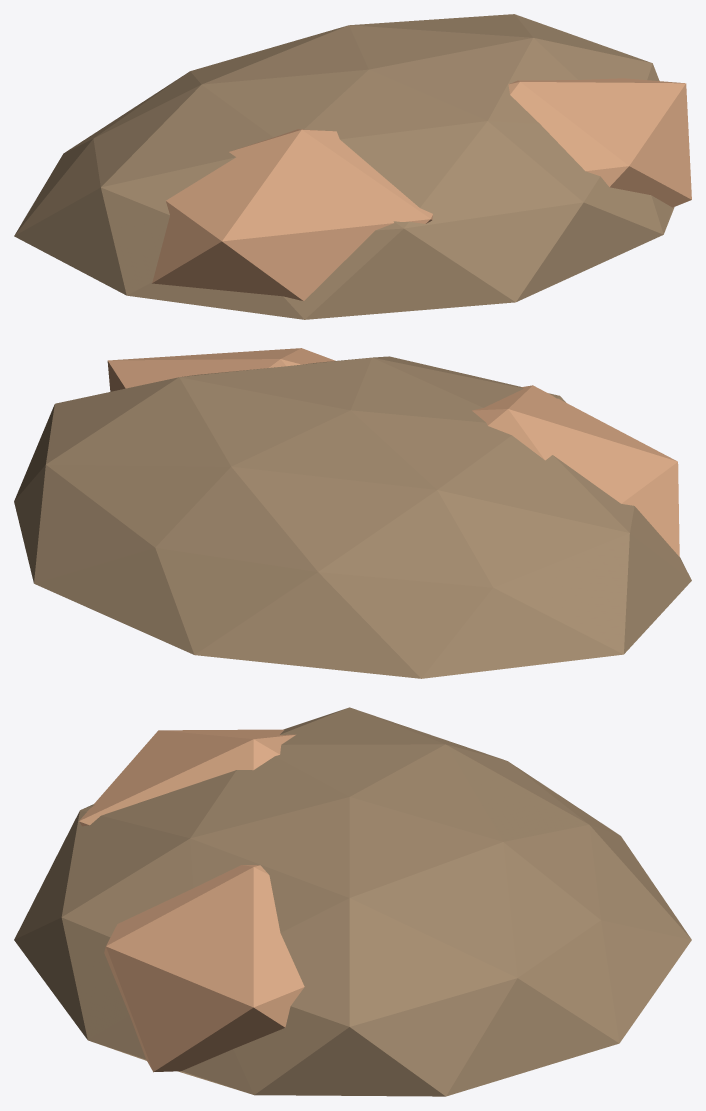
Rendered from clay_bank.glb.
3 views of the same model, one above another, from view 1: azimuth 30°, elevation 25°; view 2: azimuth 150°, elevation 25°; view 3: azimuth 270°, elevation 25° (orthographic). The views are drawn at different scales.
Visible parts, largest first — view 1: clay_bank; view 2: clay_bank; view 3: clay_bank.
Part boxes in pixels (box(x1,y1,x2,y2)): clay_bank: box(14, 14, 691, 319); clay_bank: box(14, 348, 691, 678); clay_bank: box(14, 707, 691, 1096).
Size of the model in its own units: 1.56 by 0.3157 by 1.36.
